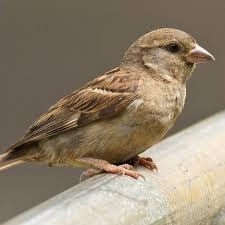hsparrow: (1, 20, 218, 189)
